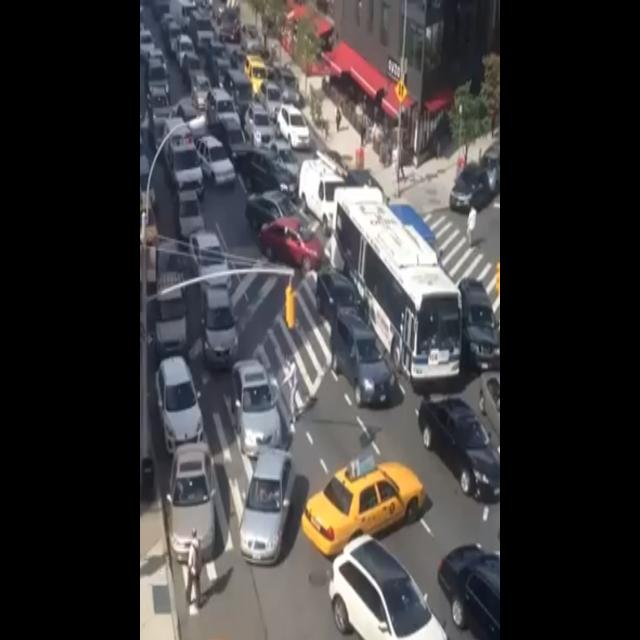Ambulance: (161, 114, 208, 206)
